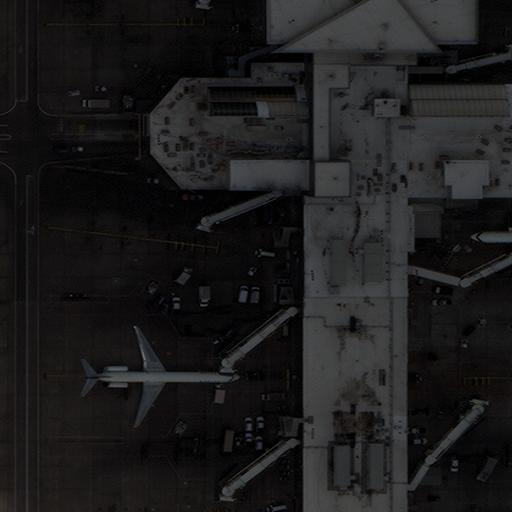Medium Civil Transport: (81, 325, 243, 427)
